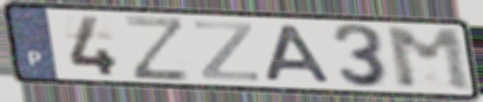3: (331, 22, 393, 91)
4: (66, 13, 120, 77)
A: (263, 23, 335, 85)
M: (381, 26, 477, 93)
Z: (121, 14, 193, 83), (192, 19, 262, 83)
